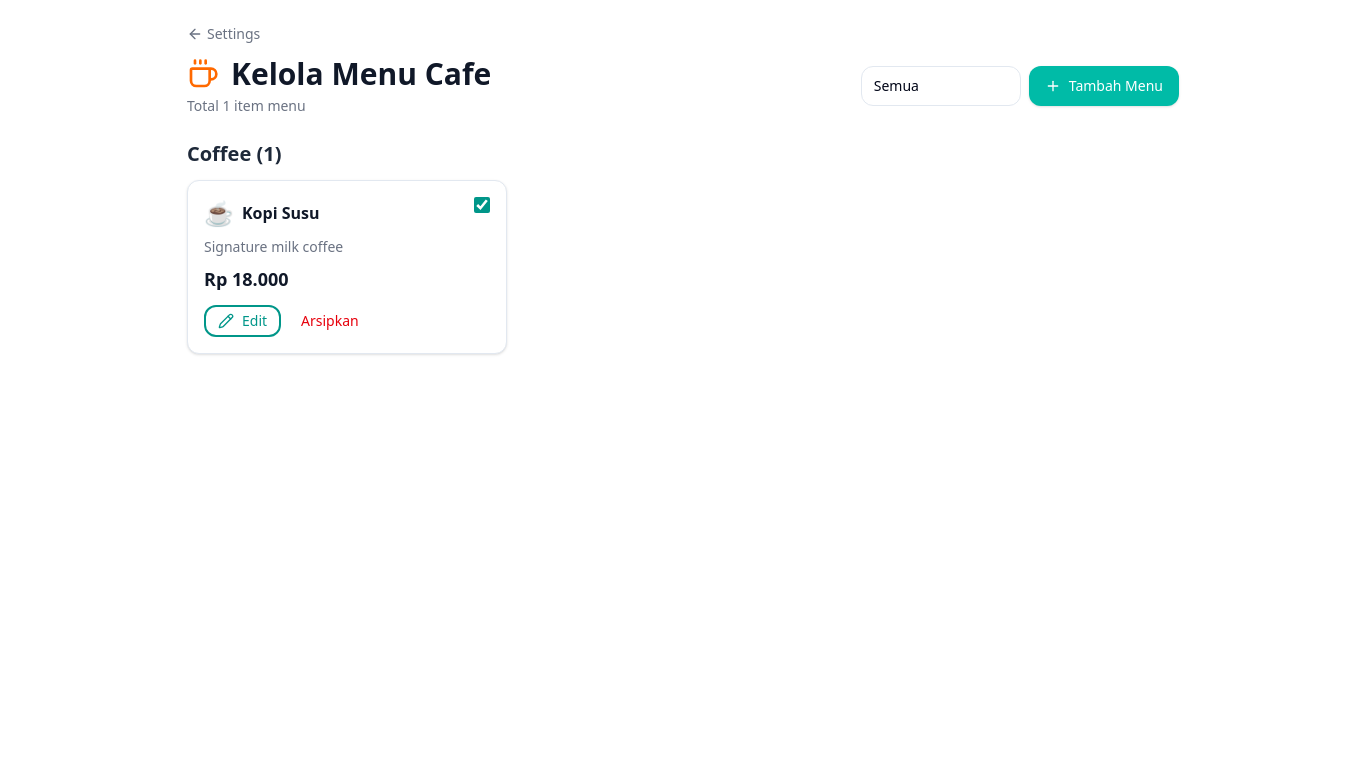
Scenario: MenuClient › AC-M24: clicking Edit pre-fills the form, and Save patches the item in place
The width and height of the screenshot is (1366, 768).
Click the button with aria-label "edit kopi susu". click: [243, 321]
box: left=204, top=305, right=281, bottom=337
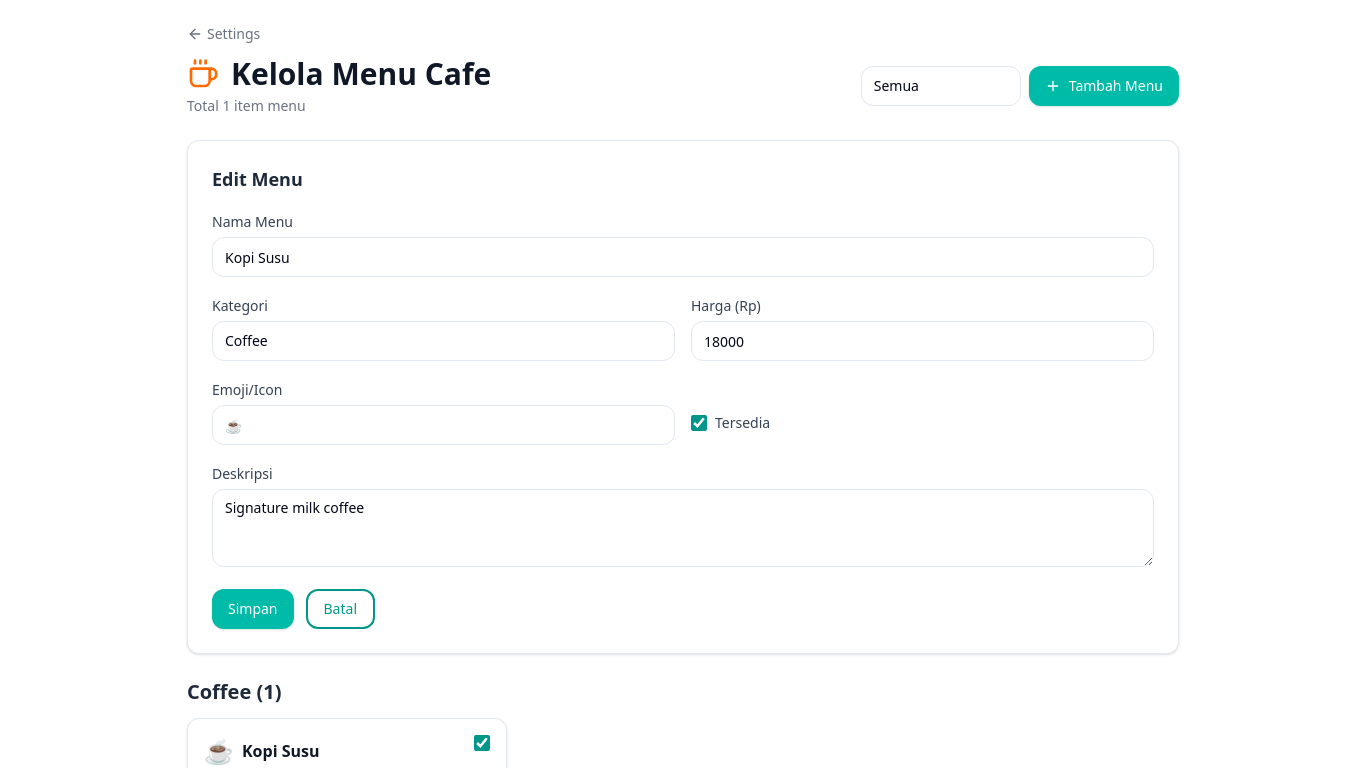
Now the field labelled "Nama Menu" holds "Kopi Susu"
Replace the text in the field labelled "Nama Menu" with "Kopi Susu Gula Aren". click: [683, 257]
box: left=212, top=237, right=1154, bottom=277
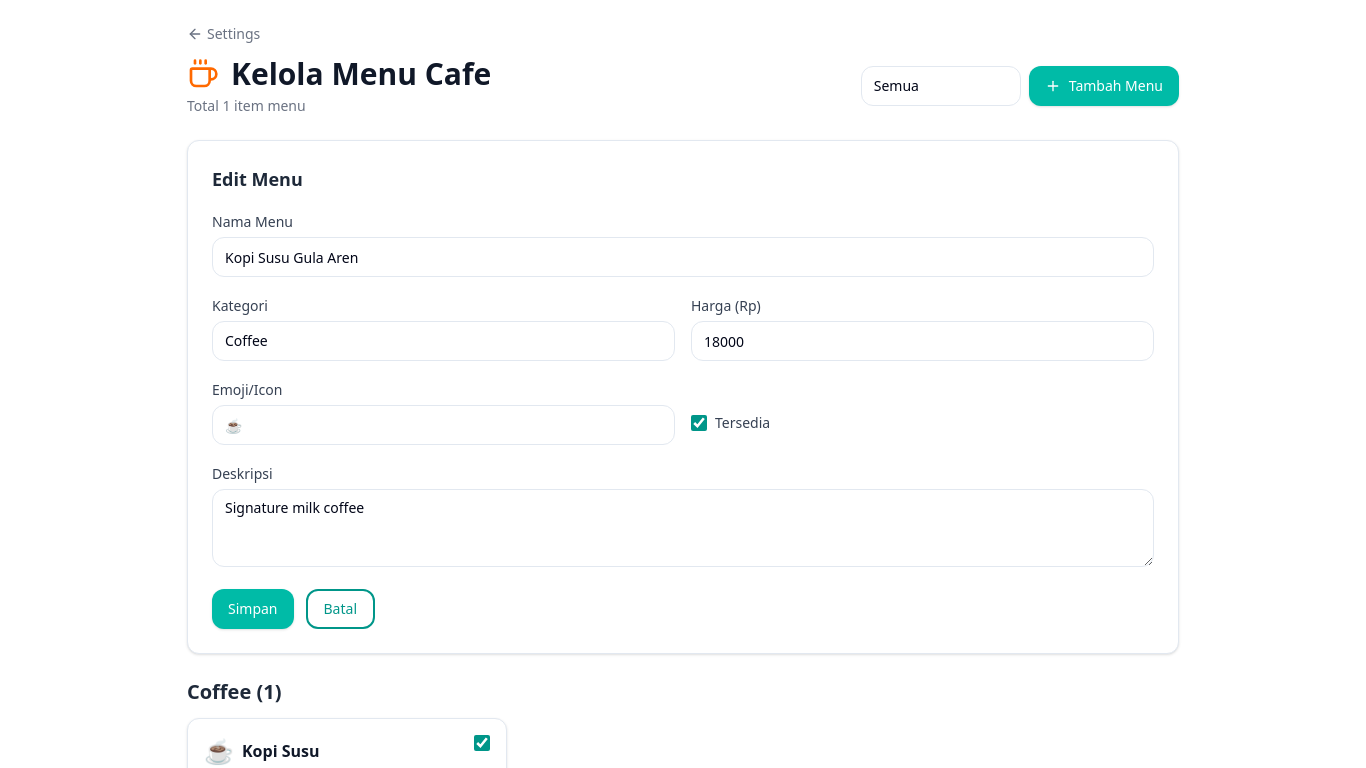
Click the button "Simpan". click: [253, 609]
box: left=212, top=589, right=294, bottom=629
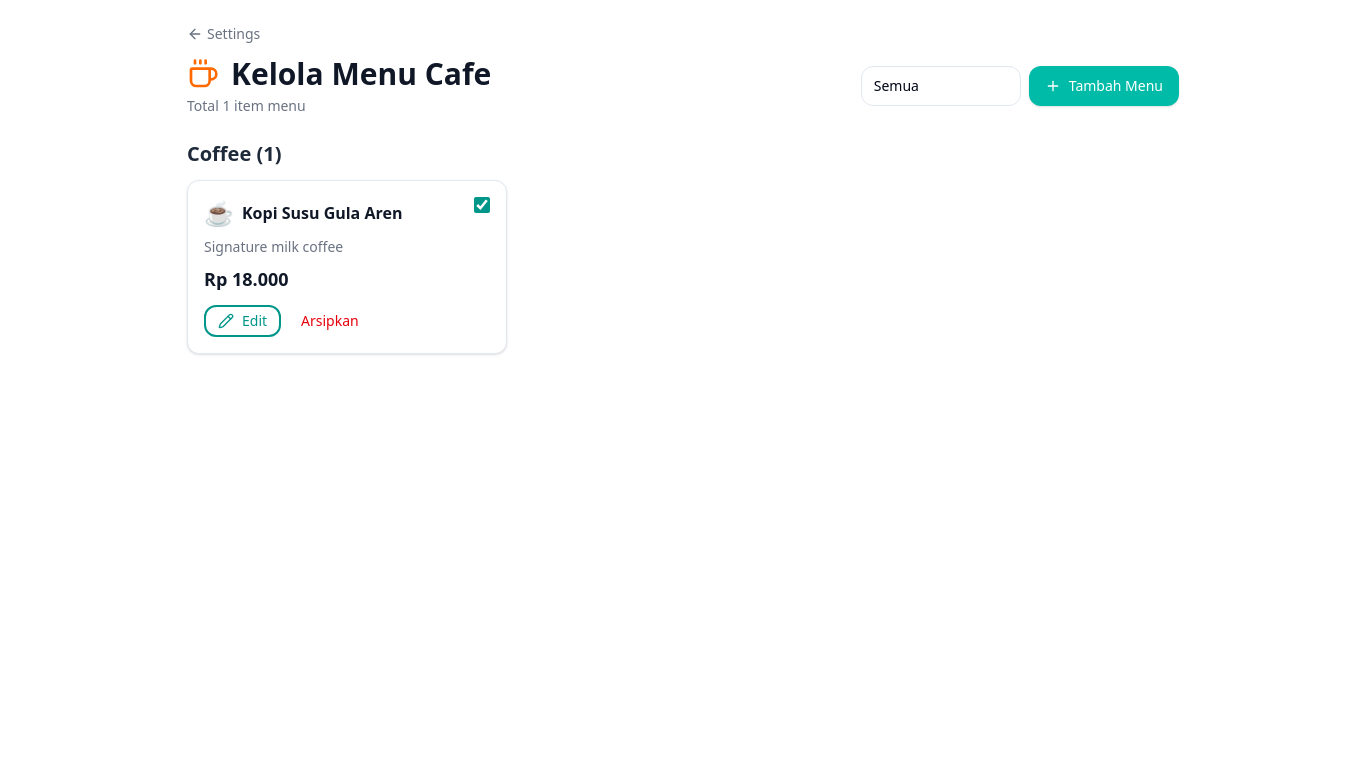
Now the text "Kopi Susu Gula Aren" is shown, box left=242, top=201, right=402, bottom=225
